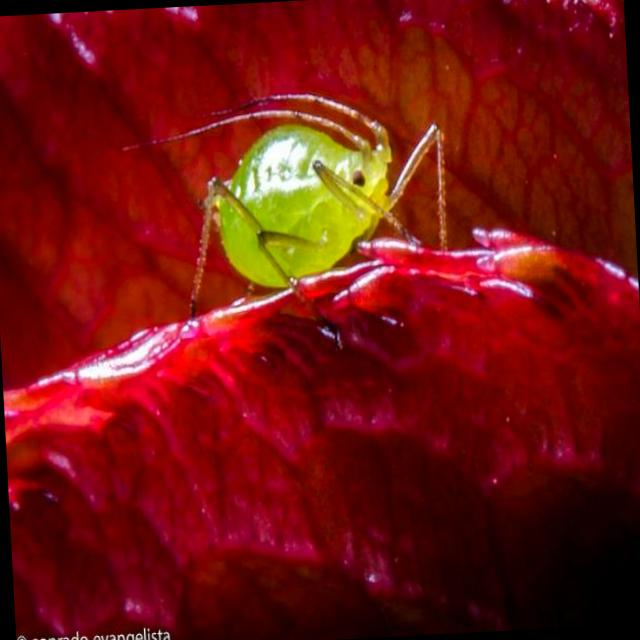aphid: (124, 81, 480, 318)
